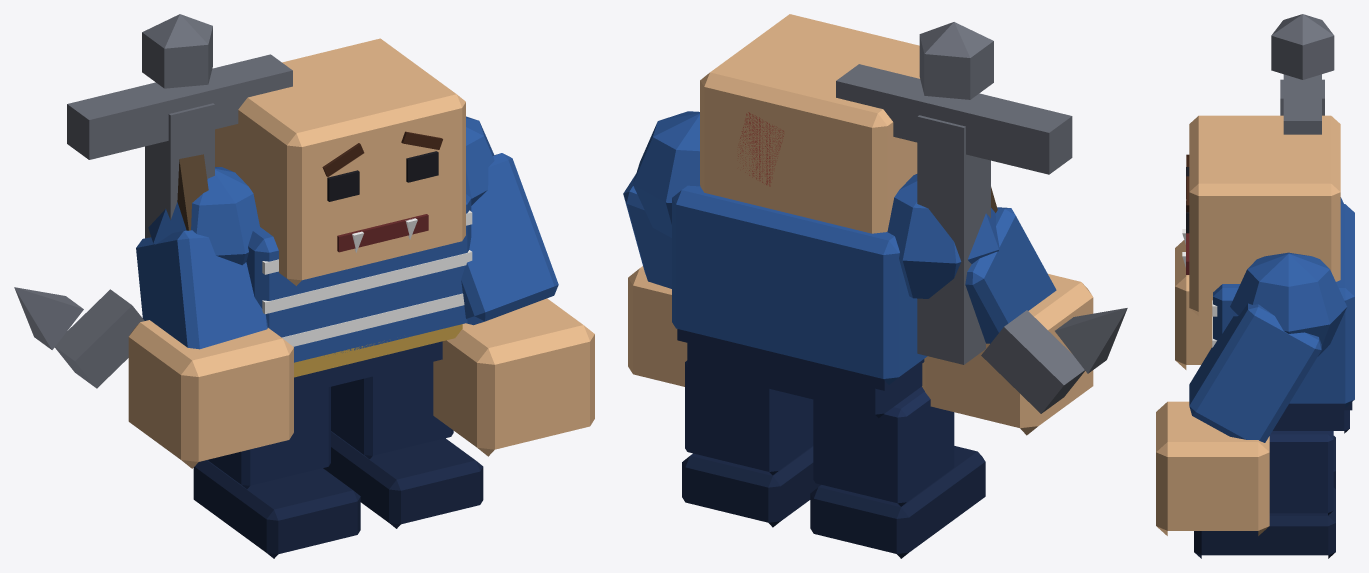
Rendered from r13_mini_anchor_smasher.glb.
3 renders of one model, left to right at view 1: azimuth 30°, elevation 25°; view 2: azimuth 150°, elevation 25°; view 3: azimuth 270°, elevation 25°, orthographic. The views are drawn at different scales.
Visible parts, largest first — view 1: r13_mini_anchor_smasher_mesh; view 2: r13_mini_anchor_smasher_mesh; view 3: r13_mini_anchor_smasher_mesh.
Boxes of the visible parts, x1,y1,x2,y2 form: r13_mini_anchor_smasher_mesh: (14, 14, 594, 558); r13_mini_anchor_smasher_mesh: (623, 14, 1127, 558); r13_mini_anchor_smasher_mesh: (1156, 14, 1354, 558).
Bounding box in the file's own units: 4.33 × 4.2 × 1.7.
Materials: 1 (1 with a texture image).
